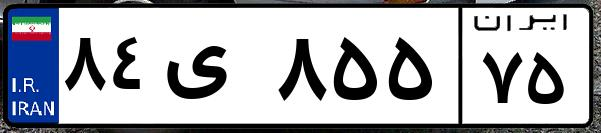4: (110, 28, 158, 98)
5: (385, 28, 445, 110), (330, 28, 385, 110), (525, 38, 570, 115)
7: (475, 38, 525, 113)
8: (270, 28, 330, 110), (57, 26, 110, 100)
ی: (158, 20, 270, 120)
